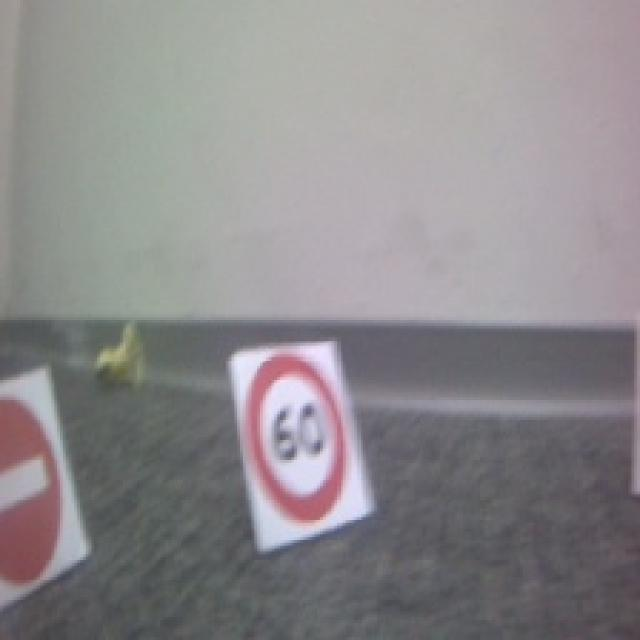DoNotEnterSign: (0, 395, 60, 586)
